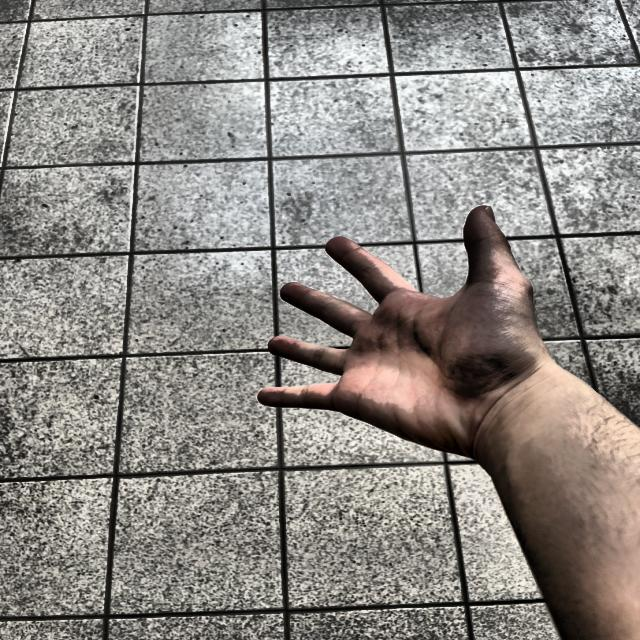not-gloved: (224, 188, 566, 475)
